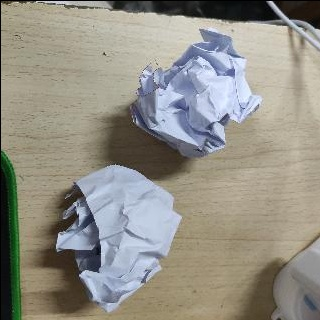8/可回收垃圾/纸: (54, 164, 181, 312), (129, 27, 264, 159)
